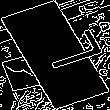L_SW: (16, 30, 94, 80)
